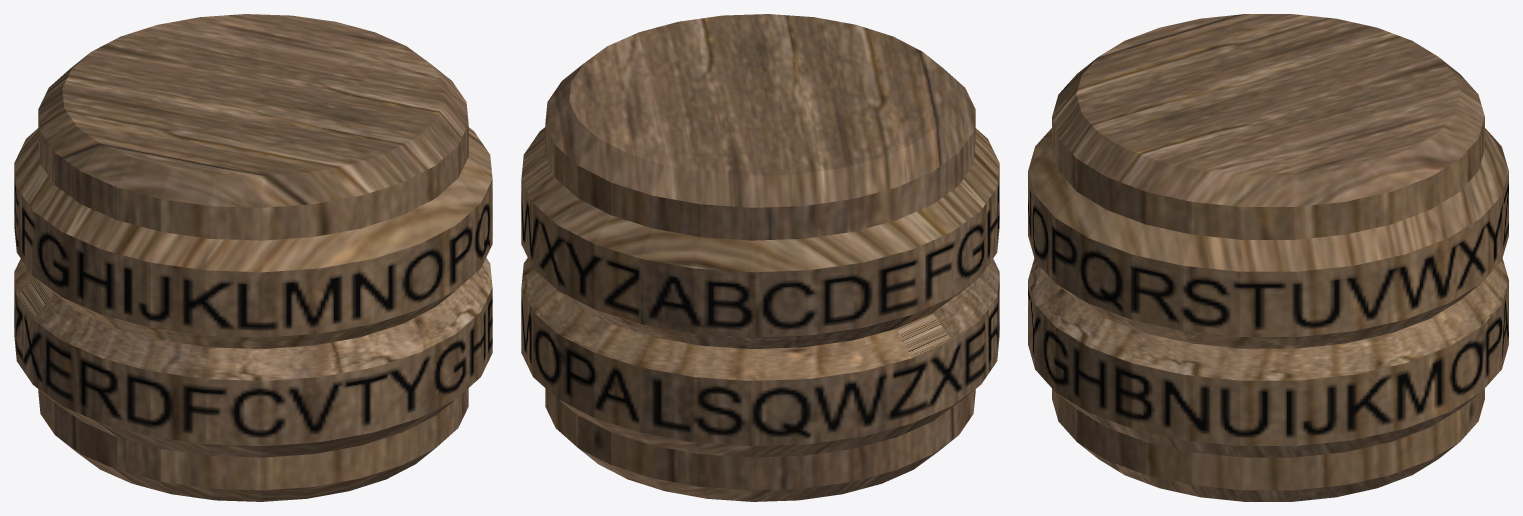
Rendered from cipher wheel1.obj.
3 renders of one model, left to right at view 1: azimuth 30°, elevation 25°; view 2: azimuth 150°, elevation 25°; view 3: azimuth 270°, elevation 25°, orthographic.
Parts seen in each view (by area): view 1: Cylinder.001; view 2: Cylinder.001; view 3: Cylinder.001.
Boxes of the visible parts, left/top/right/bottom form: Cylinder.001: left=14, top=14, right=492, bottom=501; Cylinder.001: left=521, top=14, right=999, bottom=501; Cylinder.001: left=1028, top=14, right=1508, bottom=501.
Bounding box in the file's own units: 1.99 × 1.5 × 2.
1 material, 1 textured.
